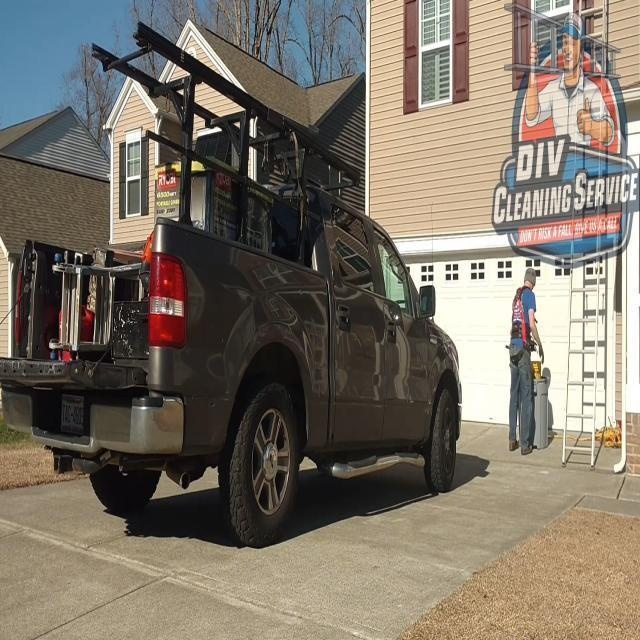Arnes_seguridad: (507, 286, 534, 368)
